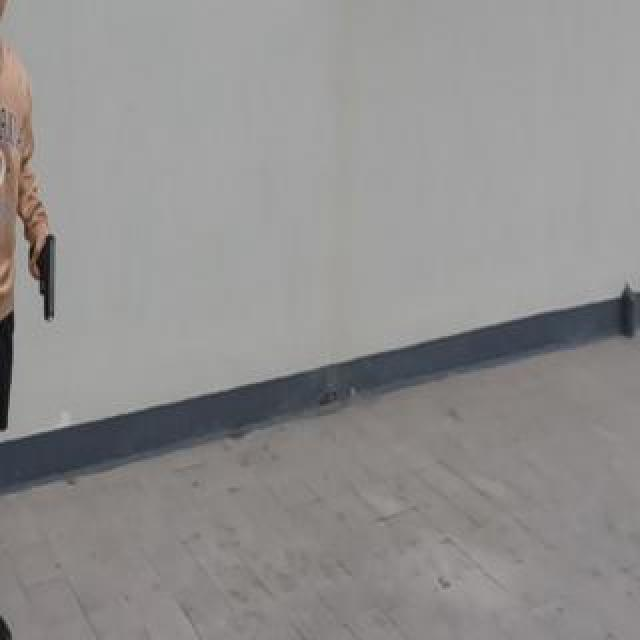Guns: (18, 222, 68, 335)
